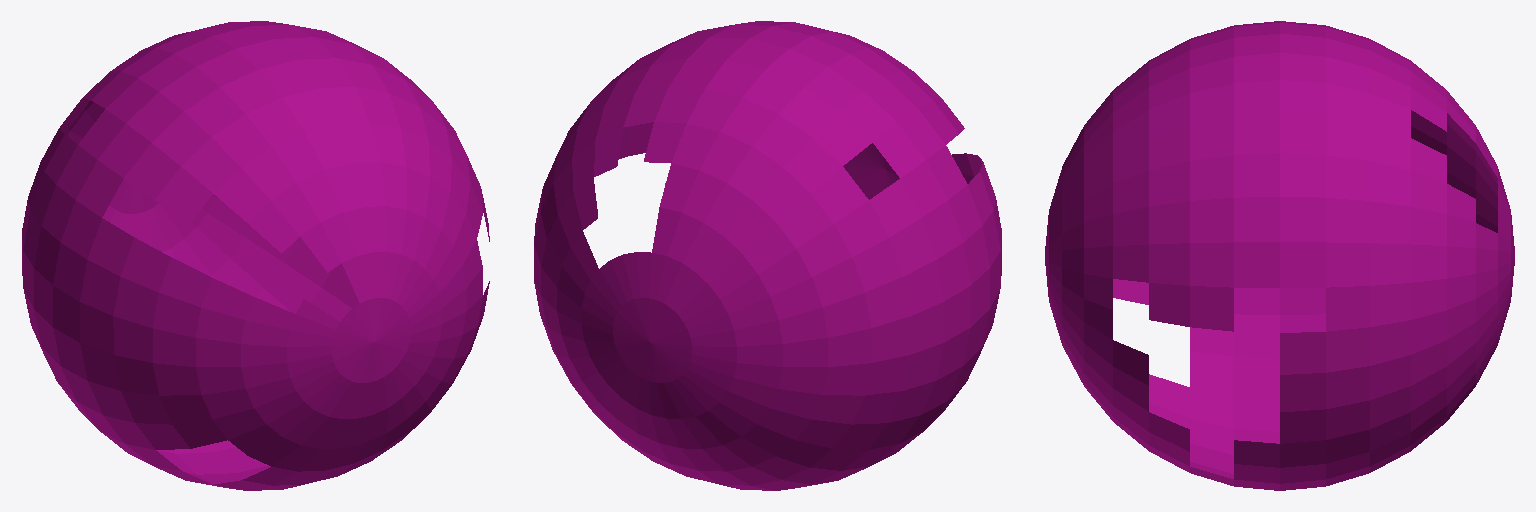
File: room.obj
3 renders of one model, left to right at view 1: azimuth 30°, elevation 25°; view 2: azimuth 150°, elevation 25°; view 3: azimuth 270°, elevation 25°, orthographic.
Visible parts, largest first — view 1: Sphere001; view 2: Sphere001; view 3: Sphere001.
Boxes of the visible parts, box(x1,y1,x2,y2) form: Sphere001: box(22, 21, 489, 490); Sphere001: box(534, 21, 1001, 490); Sphere001: box(1045, 21, 1514, 490).
Bounding box in the file's own units: 19.91 × 19.91 × 20.